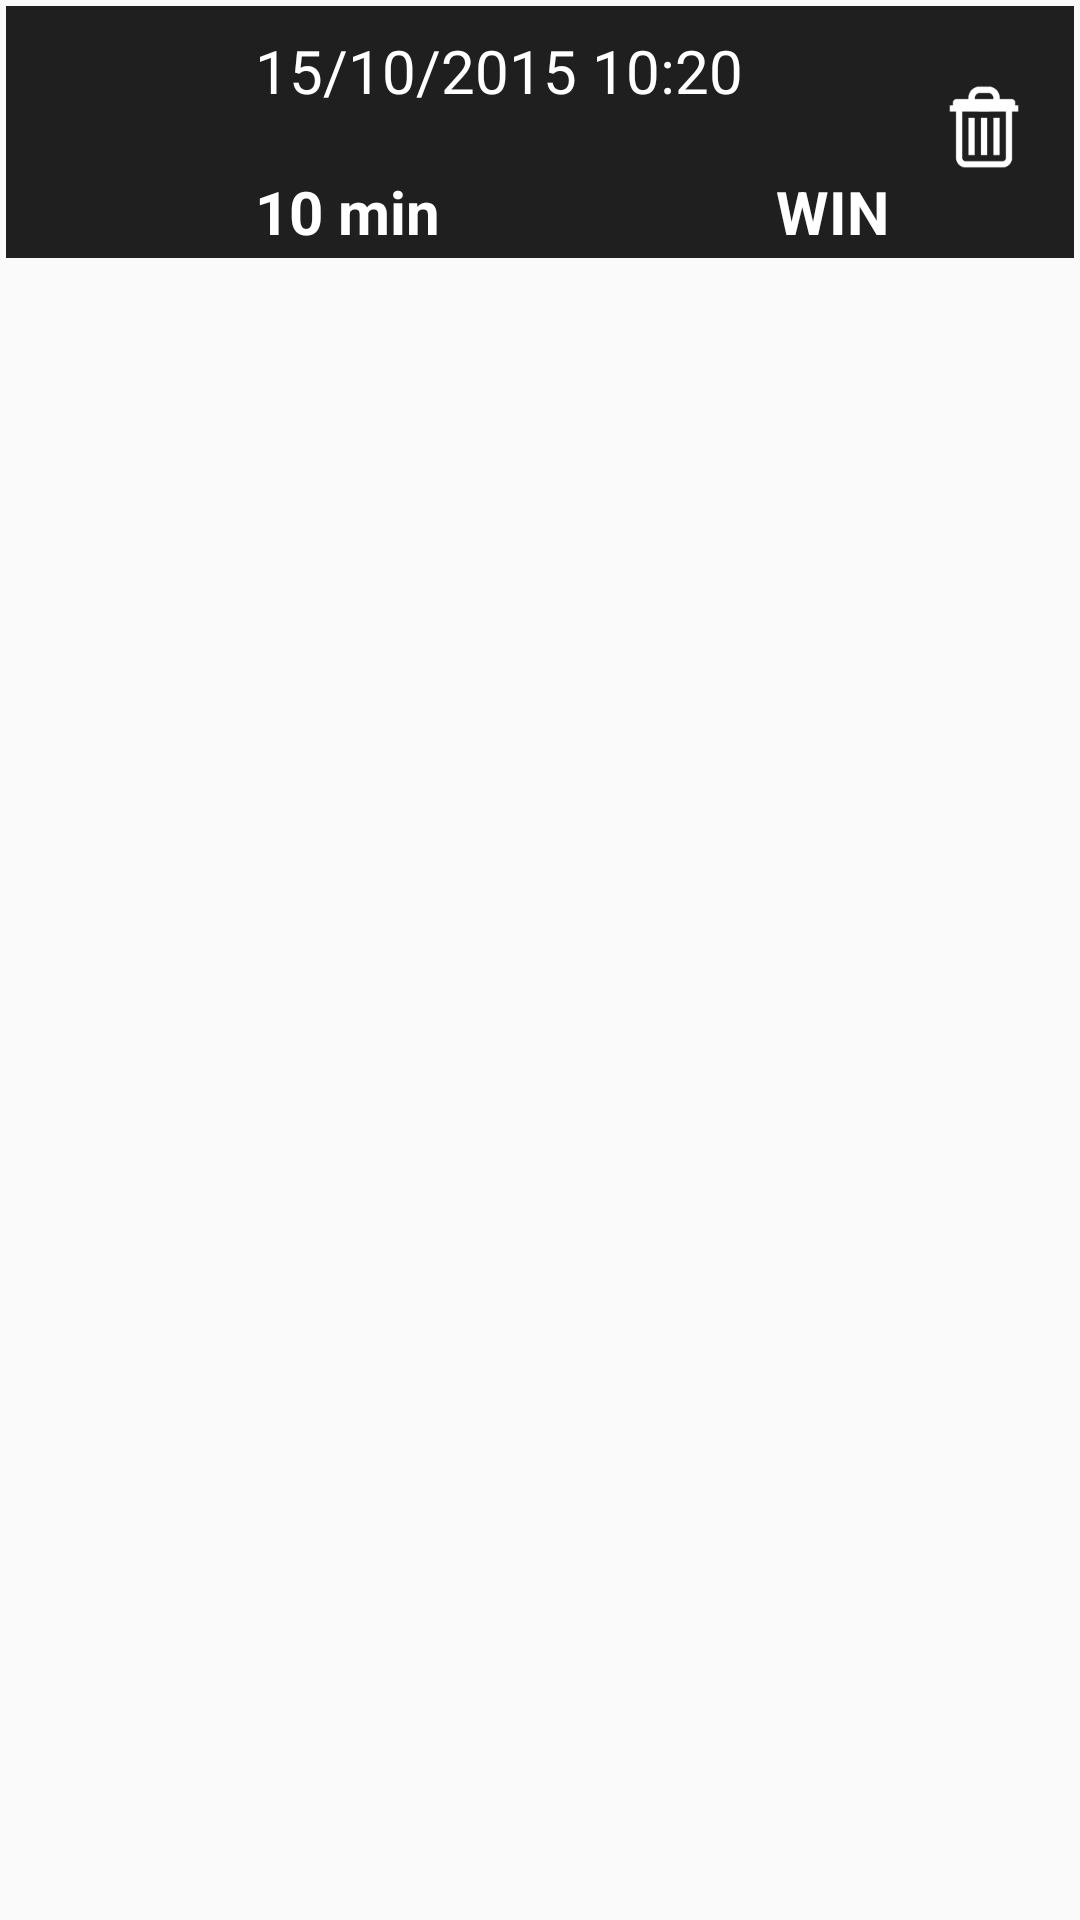

Screen size 1080px x 1920px. Icon name, then its center in pixels as (x,y):
delet: (984,127)
